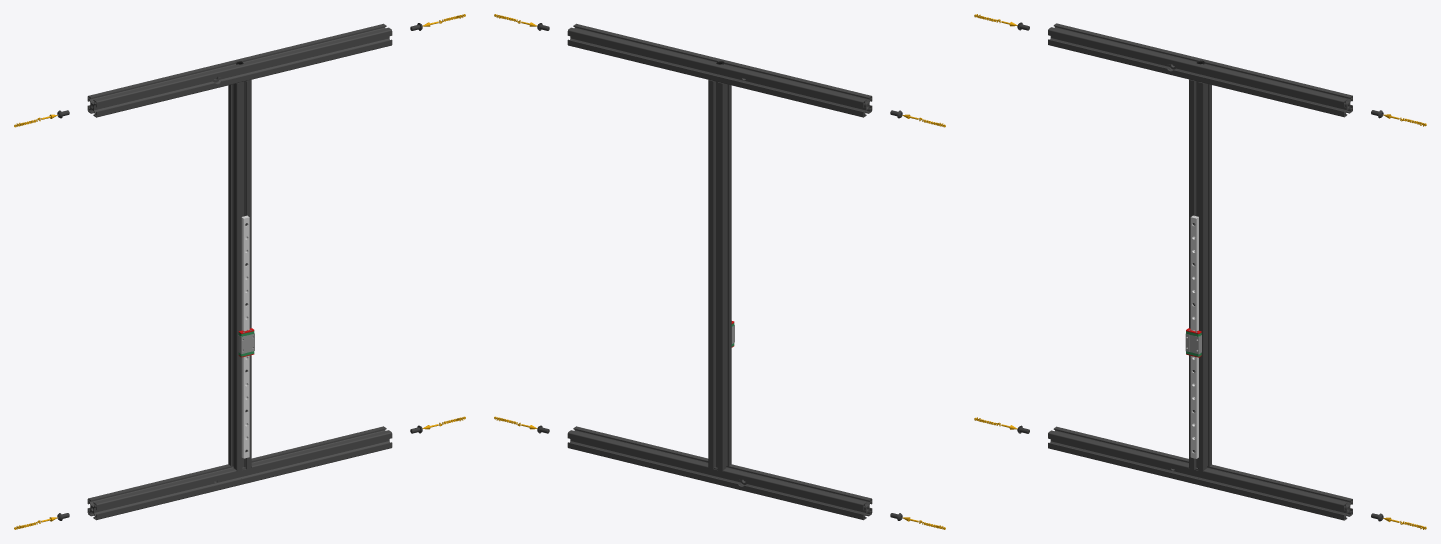
3 renders of one model, left to right at view 1: azimuth 30°, elevation 25°; view 2: azimuth 150°, elevation 25°; view 3: azimuth 330°, elevation 25°, orthographic.
Parts seen in each view (by area): view 1: 01_05__XP__Alu_3030_Pillar_Back__V2.0 v25, 01_07__XP__Alu_3030_Beam_4___V1.0 v4, 01_04__XP__Alu_3030_Beam_Back___V1.0 v13, MGNR12R450HM_FILE_2 v1; view 2: 01_05__XP__Alu_3030_Pillar_Back__V2.0 v25, 01_07__XP__Alu_3030_Beam_4___V1.0 v4, 01_04__XP__Alu_3030_Beam_Back___V1.0 v13; view 3: 01_07__XP__Alu_3030_Beam_4___V1.0 v4, 01_04__XP__Alu_3030_Beam_Back___V1.0 v13, 01_05__XP__Alu_3030_Pillar_Back__V2.0 v25, MGNR12R450HM_FILE_2 v1.
Part boxes in pixels (left/top/right/bottom): 01_05__XP__Alu_3030_Pillar_Back__V2.0 v25: left=228, top=80, right=251, bottom=471; 01_07__XP__Alu_3030_Beam_4___V1.0 v4: left=87, top=23, right=392, bottom=117; 01_04__XP__Alu_3030_Beam_Back___V1.0 v13: left=87, top=426, right=392, bottom=520; MGNR12R450HM_FILE_2 v1: left=241, top=215, right=249, bottom=458; 01_05__XP__Alu_3030_Pillar_Back__V2.0 v25: left=708, top=80, right=731, bottom=471; 01_07__XP__Alu_3030_Beam_4___V1.0 v4: left=567, top=23, right=872, bottom=117; 01_04__XP__Alu_3030_Beam_Back___V1.0 v13: left=567, top=426, right=872, bottom=520; 01_07__XP__Alu_3030_Beam_4___V1.0 v4: left=1048, top=23, right=1352, bottom=117; 01_04__XP__Alu_3030_Beam_Back___V1.0 v13: left=1048, top=426, right=1352, bottom=520; 01_05__XP__Alu_3030_Pillar_Back__V2.0 v25: left=1189, top=79, right=1211, bottom=471; MGNR12R450HM_FILE_2 v1: left=1190, top=215, right=1198, bottom=458.
Size of the model in its own units: 0.8856 by 0.785 by 0.043.
